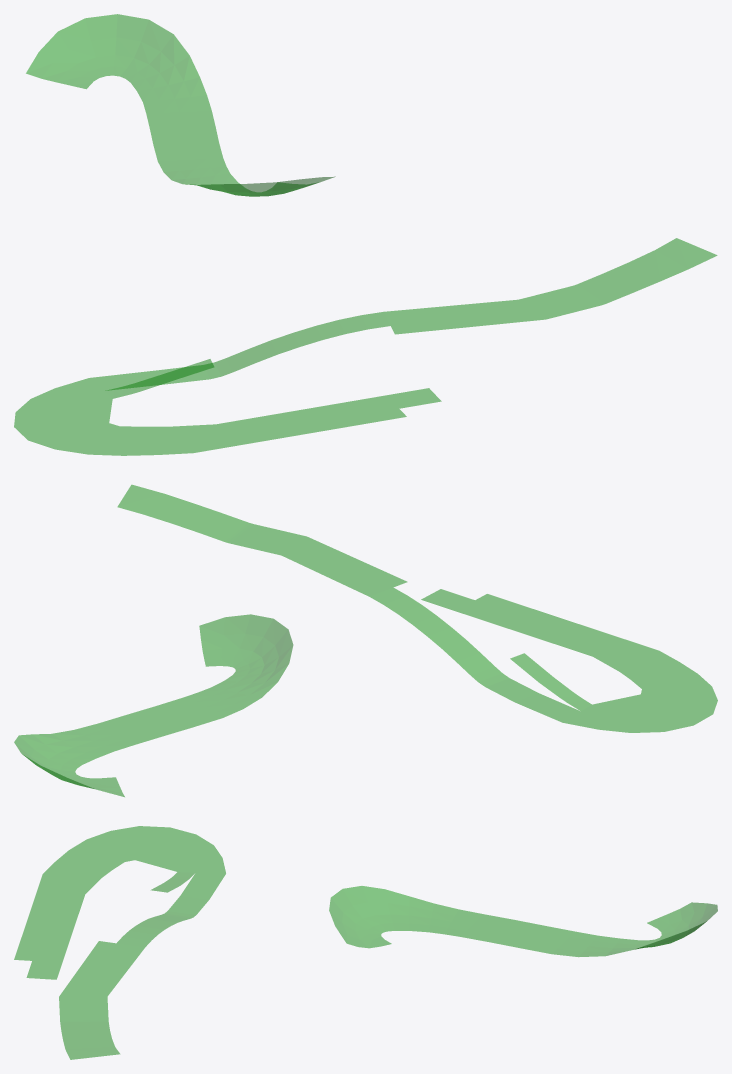
File: road_sand.obj
3 views of the same model, one above another, from view 1: azimuth 30°, elevation 25°; view 2: azimuth 150°, elevation 25°; view 3: azimuth 270°, elevation 25° (orthographic). The views are drawn at different scales.
Bounding box in the file's own units: 342 × 46.53 × 360.
